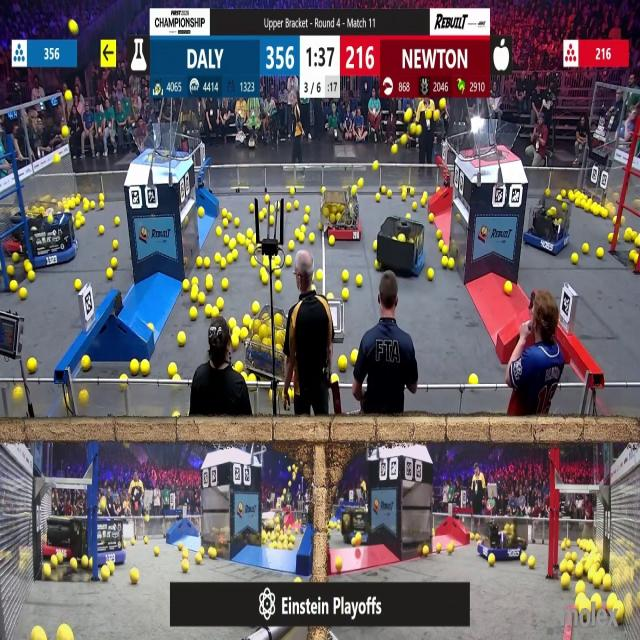ball_airborne: (68, 19, 78, 35), (404, 107, 412, 123), (60, 124, 69, 137), (52, 152, 60, 164), (400, 133, 408, 145), (64, 89, 72, 100), (390, 143, 398, 154), (350, 185, 357, 196), (439, 98, 446, 109), (409, 124, 416, 134), (433, 109, 440, 119), (358, 177, 364, 188), (372, 159, 378, 170), (416, 124, 422, 135), (426, 108, 432, 119), (48, 214, 52, 222)
ball_ground: (26, 357, 37, 373), (12, 385, 23, 400), (168, 362, 178, 378), (78, 388, 88, 404), (81, 355, 91, 371), (176, 331, 186, 346), (338, 354, 346, 372), (628, 249, 638, 263), (350, 348, 358, 365), (130, 358, 138, 374), (140, 360, 149, 374), (504, 280, 512, 295), (468, 372, 478, 384), (190, 306, 198, 320), (234, 361, 244, 372), (242, 314, 251, 326), (19, 287, 28, 299), (252, 300, 260, 313), (74, 278, 82, 291), (23, 260, 32, 271), (420, 192, 427, 206), (221, 277, 228, 291), (120, 374, 127, 388), (426, 268, 434, 280), (273, 255, 281, 267), (216, 298, 224, 310), (240, 327, 248, 339), (228, 317, 236, 329), (192, 284, 198, 300), (355, 273, 362, 286), (342, 269, 349, 282), (342, 287, 349, 300), (205, 303, 212, 316), (634, 233, 640, 248), (236, 234, 245, 244), (206, 274, 212, 289), (596, 247, 604, 258), (590, 203, 598, 214), (571, 252, 578, 264), (308, 232, 315, 244), (229, 238, 236, 250), (568, 192, 576, 202), (331, 373, 339, 383), (226, 252, 234, 262), (63, 391, 68, 407), (10, 281, 18, 291), (6, 265, 14, 275), (624, 228, 630, 241), (232, 335, 238, 348), (441, 255, 447, 267), (448, 257, 454, 269), (198, 292, 204, 304), (582, 243, 589, 253), (223, 234, 230, 244), (12, 252, 19, 262), (232, 248, 238, 259), (275, 280, 281, 291), (220, 257, 226, 268), (182, 279, 188, 290), (260, 268, 268, 276), (232, 325, 240, 333), (601, 209, 608, 218), (580, 198, 586, 208), (598, 205, 604, 215), (631, 230, 637, 240), (442, 244, 448, 254), (428, 212, 434, 222), (288, 240, 294, 250), (214, 252, 220, 262), (204, 258, 210, 268), (212, 306, 218, 316), (111, 258, 117, 268), (112, 239, 118, 249), (28, 270, 34, 280), (70, 198, 76, 208), (326, 292, 334, 299), (76, 210, 83, 218), (608, 232, 613, 243), (438, 239, 443, 250), (560, 188, 566, 197), (436, 229, 442, 238), (328, 236, 334, 245), (316, 269, 322, 278), (234, 218, 240, 227), (246, 228, 252, 237), (248, 244, 254, 253), (251, 257, 257, 266), (274, 268, 280, 277), (262, 275, 268, 284), (196, 257, 202, 266), (106, 269, 112, 278), (98, 225, 104, 234), (114, 217, 120, 226), (286, 255, 291, 265), (75, 218, 80, 228), (380, 185, 386, 193), (374, 260, 380, 268), (242, 372, 248, 380), (248, 374, 256, 380), (192, 276, 198, 284), (172, 373, 180, 379), (148, 322, 154, 330), (98, 192, 104, 200), (587, 198, 592, 207), (412, 201, 417, 210), (375, 193, 380, 202), (303, 213, 308, 222), (299, 233, 304, 242), (227, 211, 232, 220), (246, 237, 251, 246), (575, 198, 581, 205), (574, 190, 581, 196), (626, 227, 632, 234), (300, 225, 306, 232), (264, 194, 270, 201), (216, 228, 222, 235), (545, 188, 550, 196), (583, 203, 588, 211), (387, 189, 392, 197), (373, 240, 377, 250), (294, 229, 299, 237), (270, 216, 274, 226), (263, 256, 268, 264), (556, 194, 562, 200), (422, 190, 428, 196), (410, 187, 414, 196), (222, 208, 226, 217), (64, 203, 68, 212), (305, 205, 310, 212), (286, 203, 291, 210), (259, 212, 264, 219), (223, 219, 228, 226), (90, 201, 95, 208), (612, 216, 616, 224), (270, 204, 274, 212), (264, 206, 268, 214), (250, 204, 254, 212), (84, 203, 88, 211), (405, 213, 410, 219), (70, 195, 75, 201), (568, 189, 572, 196), (294, 201, 298, 208), (100, 201, 104, 208), (76, 197, 80, 204), (436, 186, 440, 192), (290, 188, 294, 194), (84, 197, 88, 203), (82, 217, 84, 224), (77, 193, 81, 196)
goal: (464, 119, 520, 156), (131, 122, 183, 154)
robot_blue: (377, 215, 425, 278), (524, 194, 572, 257), (72, 516, 130, 567), (477, 511, 530, 566), (28, 212, 80, 268), (343, 509, 373, 546)
robot_red: (321, 189, 362, 243), (45, 512, 84, 562)
